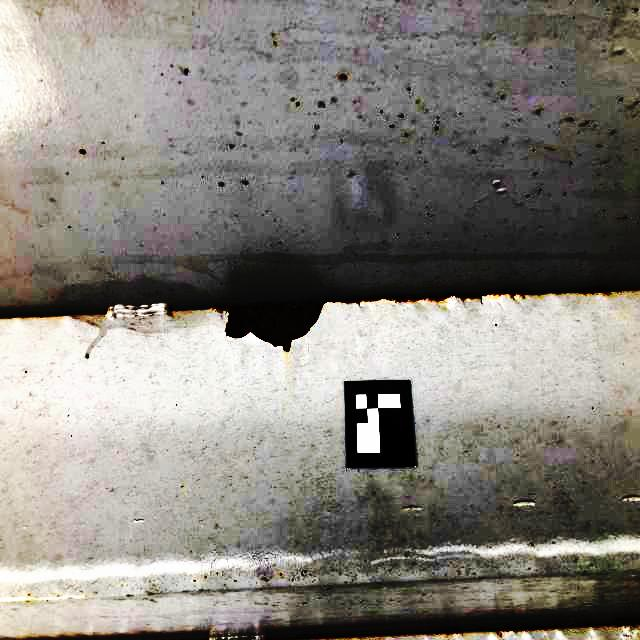Corrosion: (265, 617, 640, 640), (212, 299, 324, 353), (383, 290, 535, 305), (575, 285, 626, 296), (326, 297, 382, 306), (168, 306, 179, 312)
